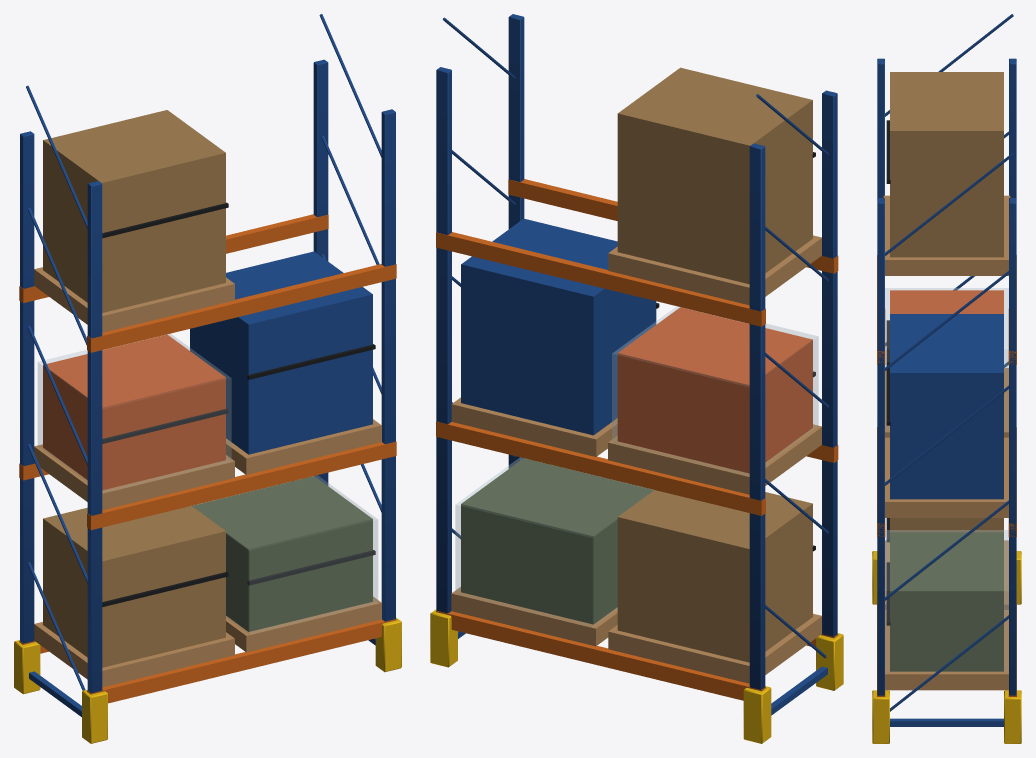
The model's file is pallet_rack_bay_loaded.glb.
3 views of the same model, side by side, from view 1: azimuth 30°, elevation 25°; view 2: azimuth 150°, elevation 25°; view 3: azimuth 270°, elevation 25° (orthographic). The views are drawn at different scales.
Visible parts, largest first — view 1: pallet_rack_bay_loaded; view 2: pallet_rack_bay_loaded; view 3: pallet_rack_bay_loaded.
Part boxes in pixels (x1,y1,x2,y2): pallet_rack_bay_loaded: (14, 14, 401, 743); pallet_rack_bay_loaded: (430, 14, 843, 743); pallet_rack_bay_loaded: (872, 14, 1021, 743).
Size of the model in its own units: 2.76 by 5.11 by 1.18.
